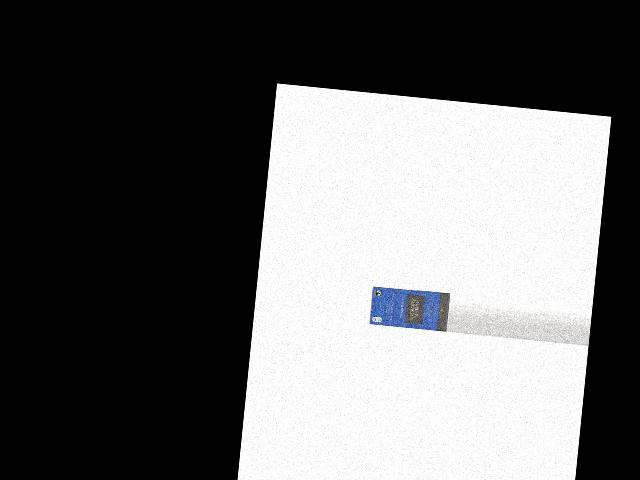chocolate: (370, 285, 450, 332)
